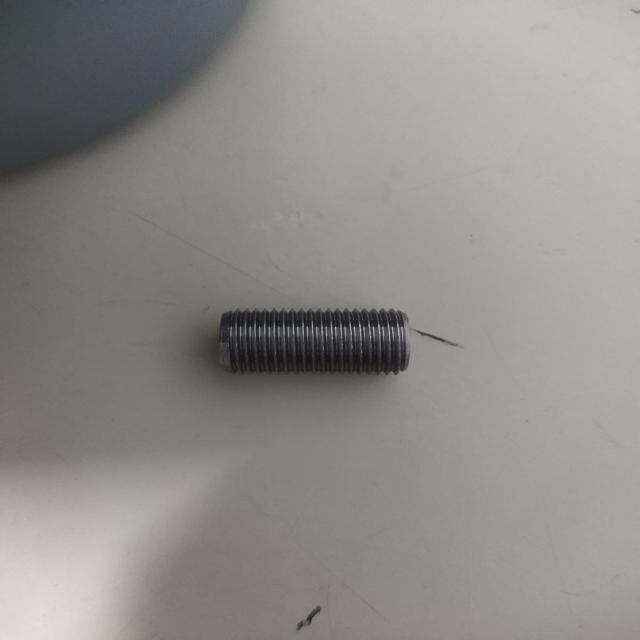Normal: (216, 306, 414, 378)
